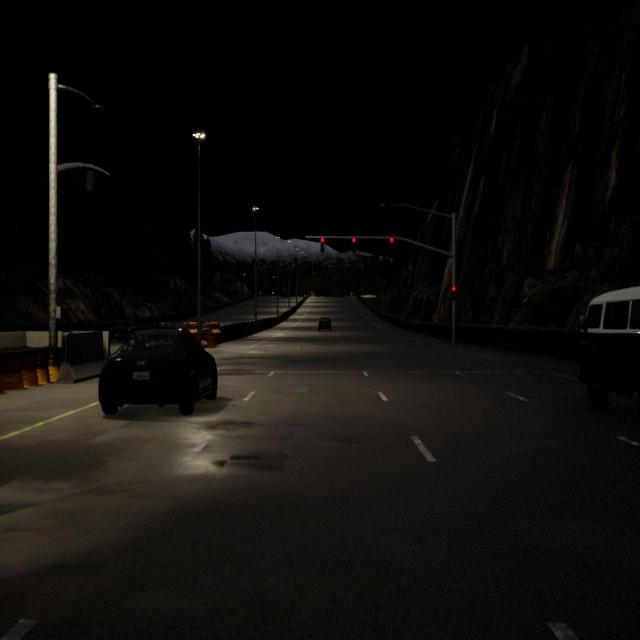Traffic_Signs: (432, 314, 438, 322)
Vehicle: (98, 324, 218, 415), (578, 286, 640, 411), (318, 317, 332, 332), (321, 294, 324, 299)
traffic_light: (86, 168, 94, 193), (451, 285, 456, 301), (389, 236, 394, 252), (352, 236, 356, 252), (321, 237, 324, 252)
